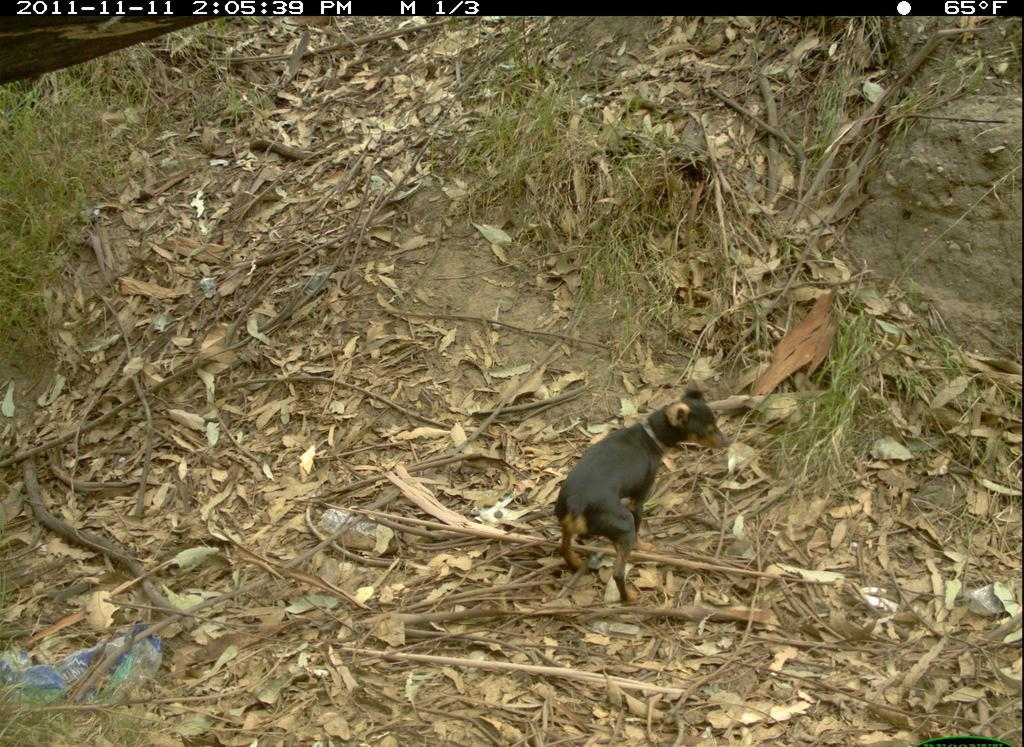dog: (550, 383, 742, 611)
